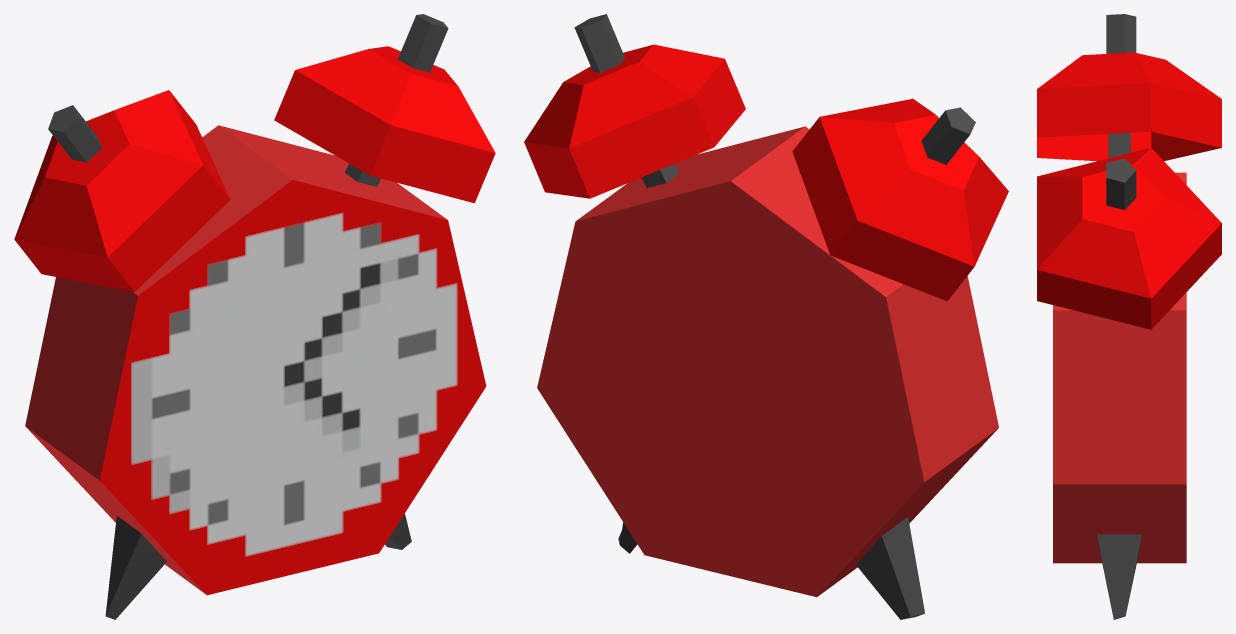
The model's file is Clock.fbx.
The picture shows the model from 3 angles, left to right: view 1: azimuth 30°, elevation 25°; view 2: azimuth 150°, elevation 25°; view 3: azimuth 270°, elevation 25°; orthographic projection. The views are drawn at different scales.
Parts seen in each view (by area): view 1: Clock; view 2: Clock; view 3: Clock.
Boxes of the visible parts, box(x1,y1,x2,y2) form: Clock: box(14, 14, 495, 619); Clock: box(524, 14, 1008, 619); Clock: box(1037, 14, 1221, 619).
Size of the model in its own units: 120 by 134 by 47.72.
